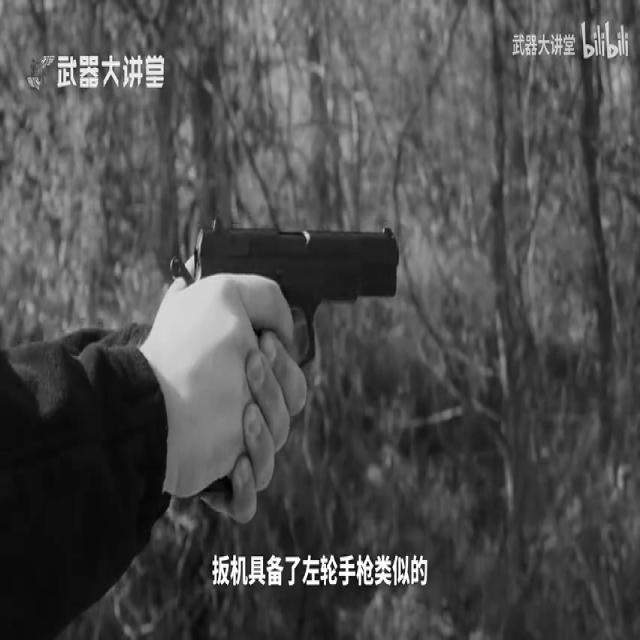Hand-Gun: (160, 209, 413, 471)
